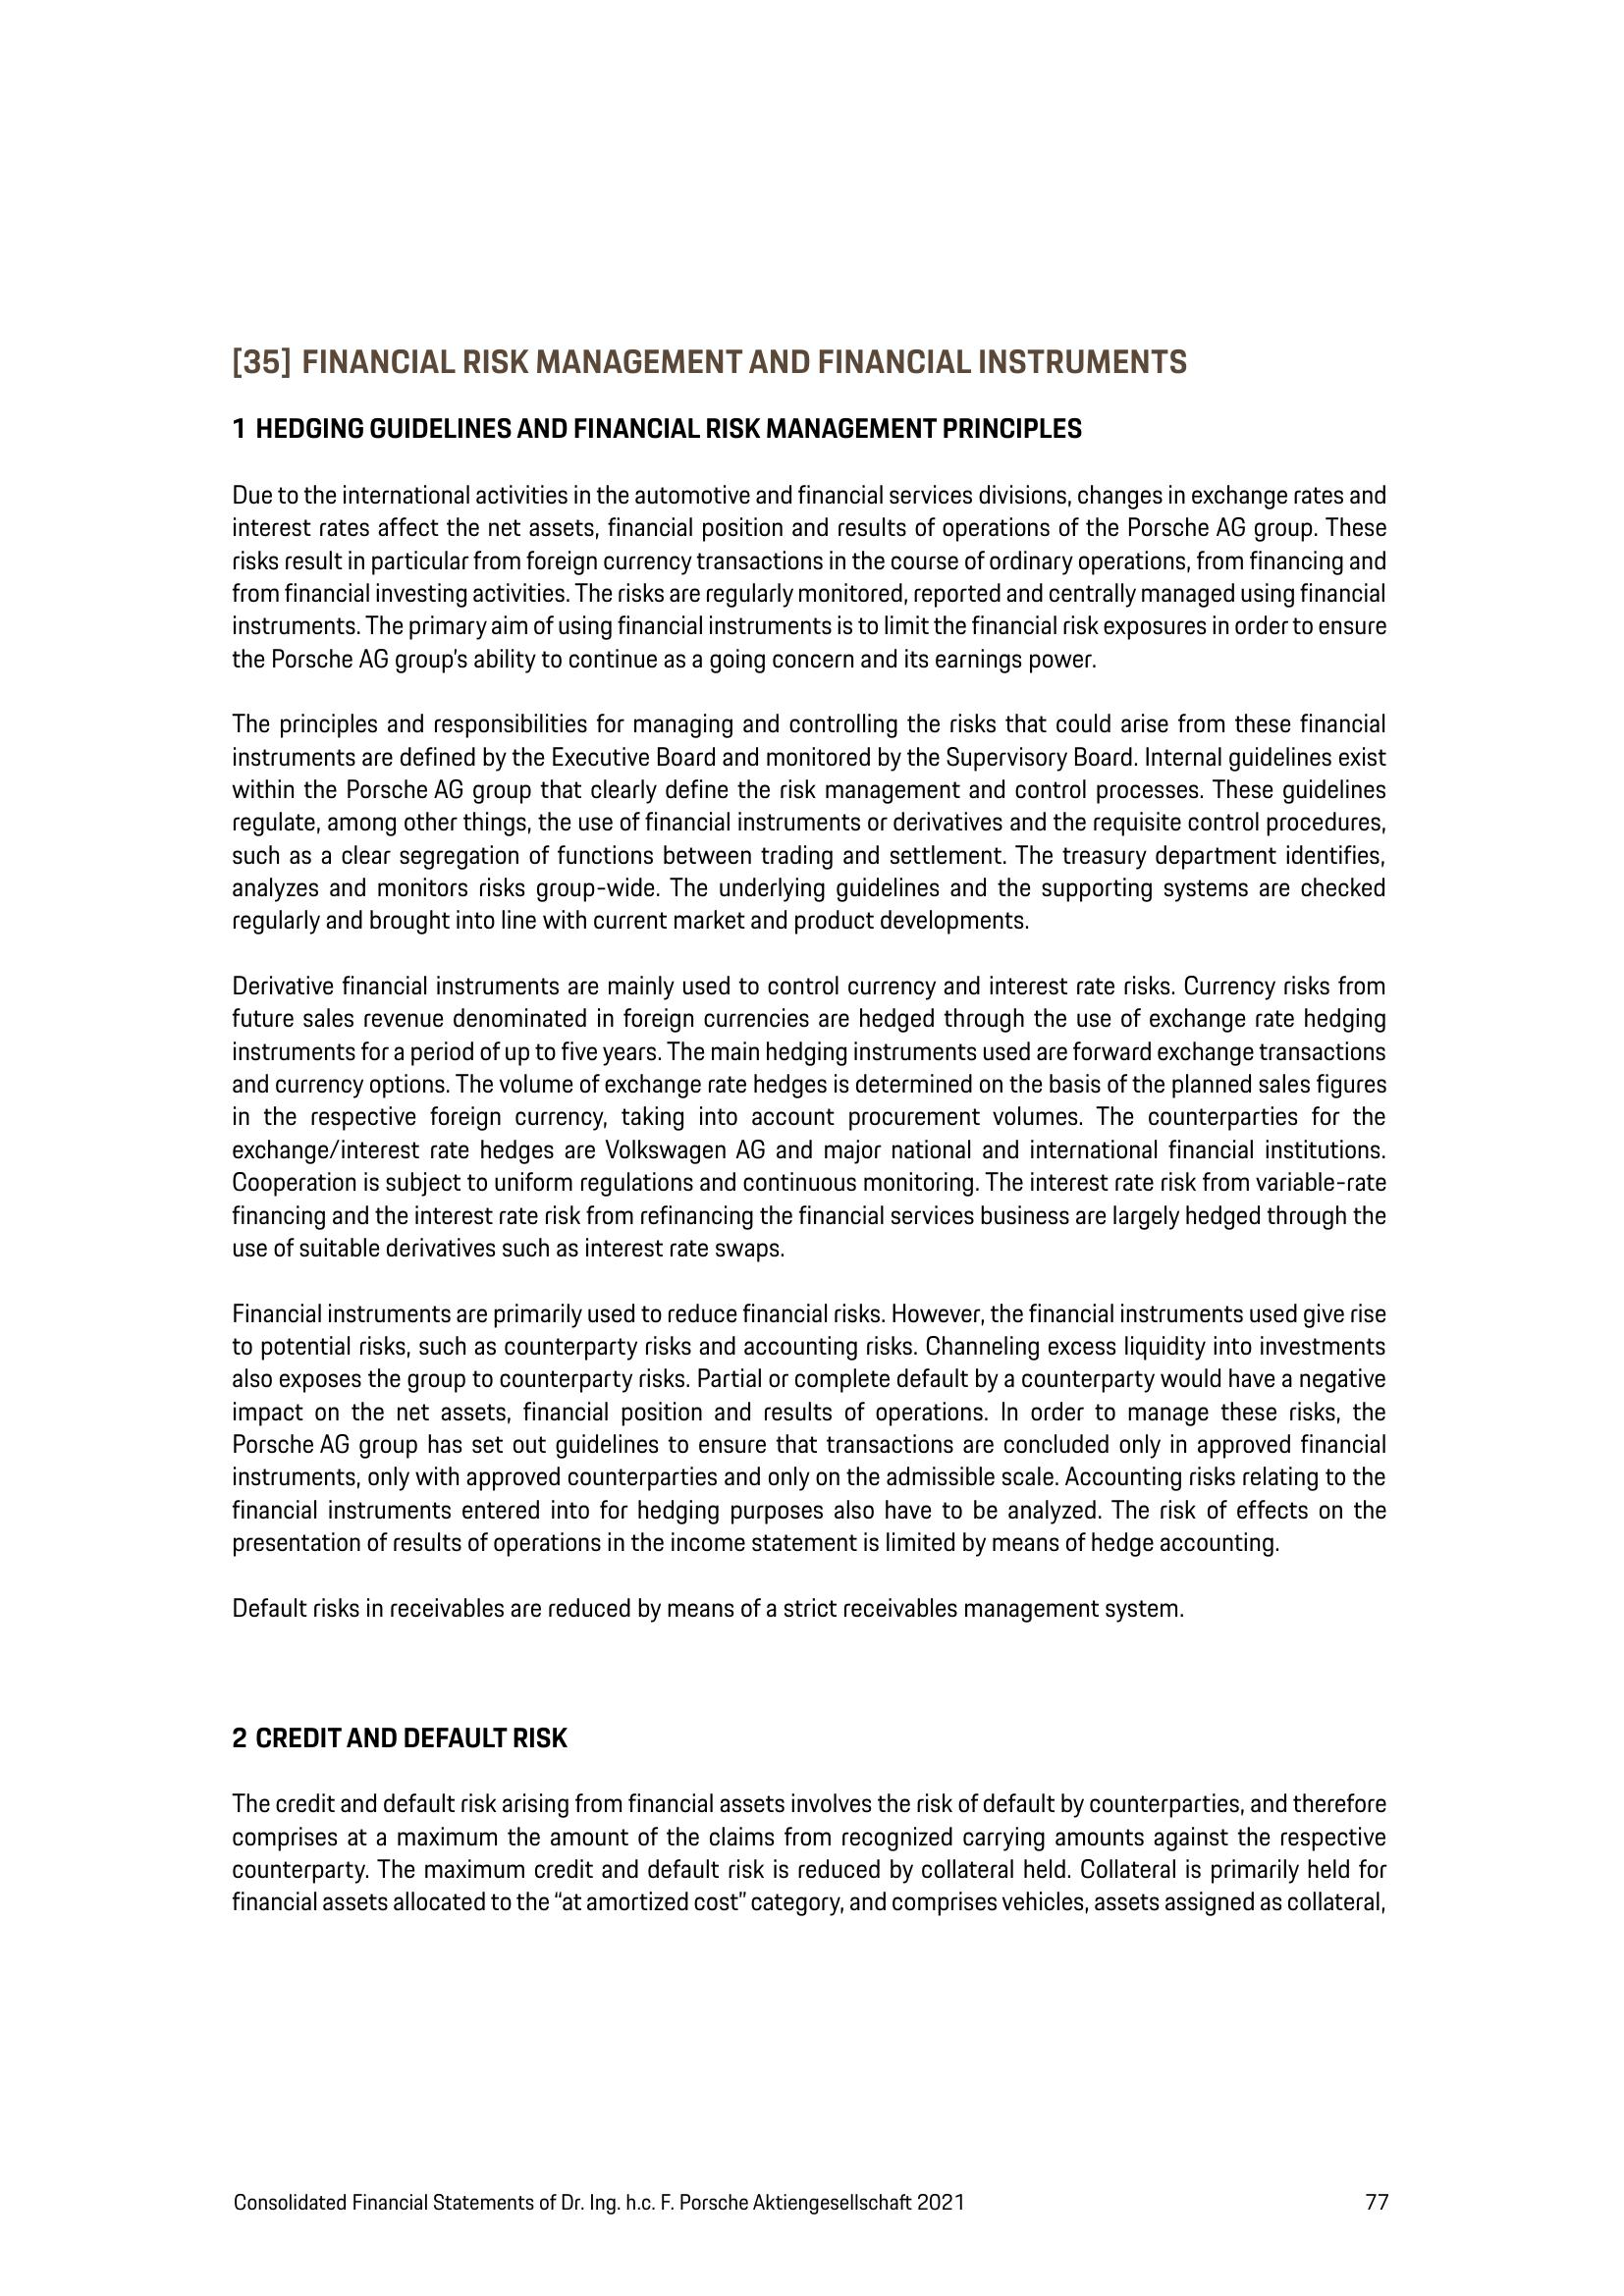Footer: (0, 2152, 1624, 2296)
Header: (0, 0, 1624, 232)
